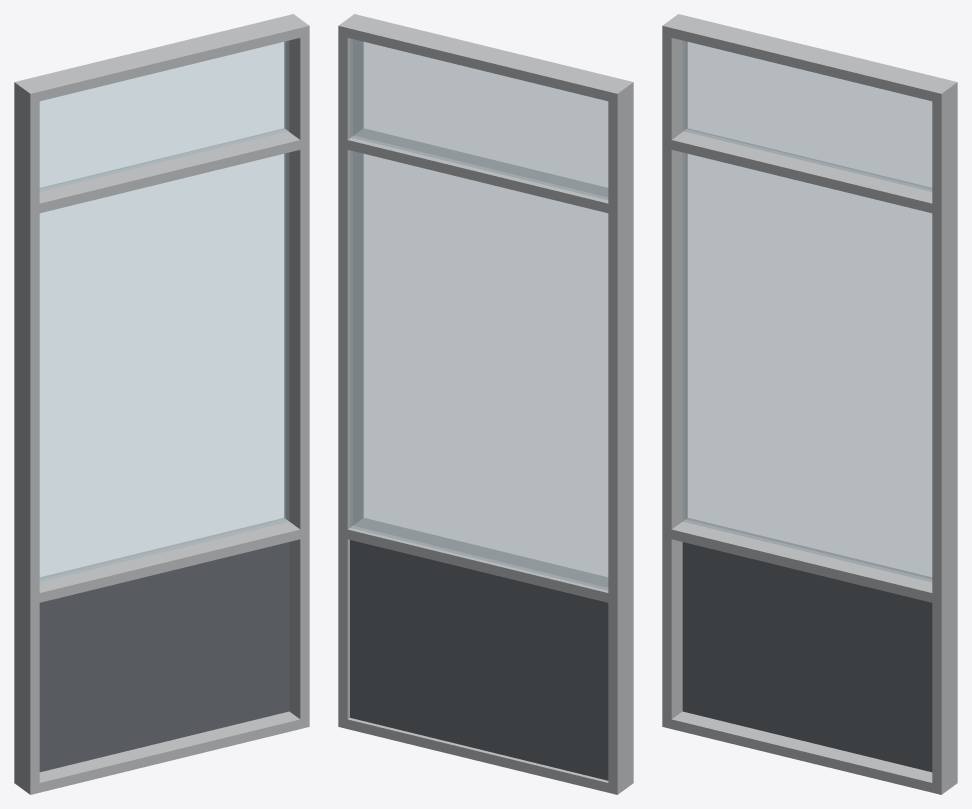
Rendered from structure.wall.curtain_module.glb.
The picture shows the model from 3 angles, left to right: view 1: azimuth 30°, elevation 25°; view 2: azimuth 150°, elevation 25°; view 3: azimuth 330°, elevation 25°; orthographic projection.
Parts seen in each view (by area): view 1: glazing__glass, frame__aluminium, glazing__laminate_grey; view 2: glazing__glass, frame__aluminium, glazing__laminate_grey; view 3: glazing__glass, frame__aluminium, glazing__laminate_grey.
Boxes of the visible parts, <box> form: glazing__glass: <box>40,41,288,581</box>; frame__aluminium: <box>14,14,309,794</box>; glazing__laminate_grey: <box>39,542,289,772</box>; glazing__glass: <box>350,38,607,590</box>; frame__aluminium: <box>338,14,633,794</box>; glazing__laminate_grey: <box>350,540,608,780</box>; glazing__glass: <box>683,41,931,581</box>; frame__aluminium: <box>662,14,957,794</box>; glazing__laminate_grey: <box>682,542,932,772</box>.
Size of the model in its own units: 1.5 by 3.6 by 0.15.
